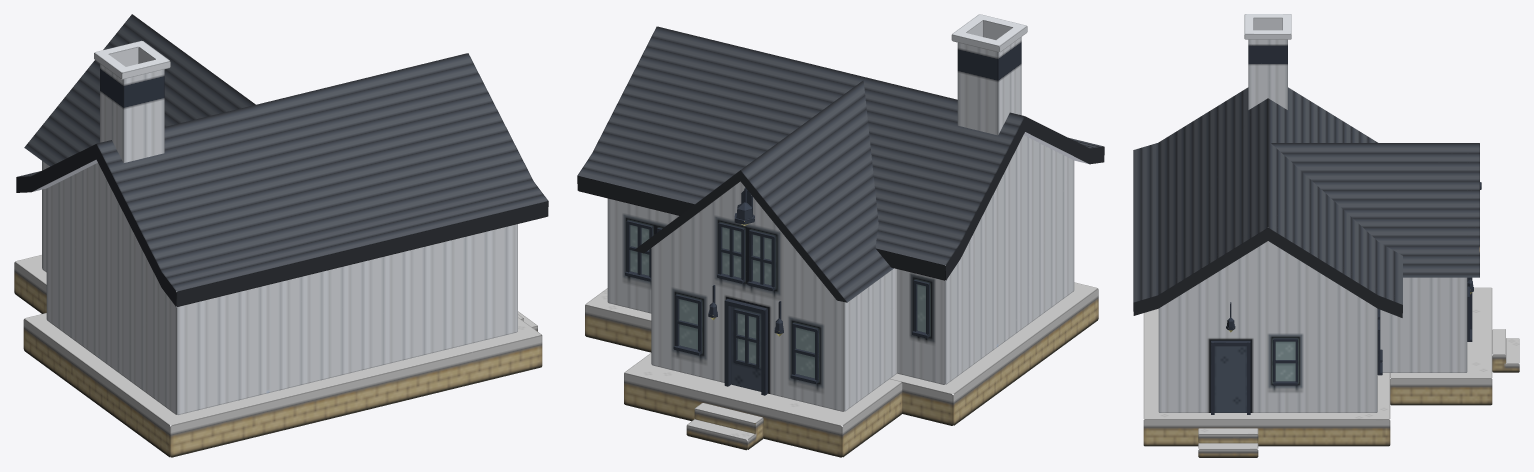
The model's file is Farmhouse.fbx.
3 renders of one model, left to right at view 1: azimuth 30°, elevation 25°; view 2: azimuth 150°, elevation 25°; view 3: azimuth 270°, elevation 25°, orthographic. The views are drawn at different scales.
Parts seen in each view (by area): view 1: base_1, base_porch_1, base, chimney, base_porch; view 2: base_1, base, base_porch_1, base_porch, chimney, stairs, doorframe, window_fronttop1, window_fronttop2, window_door, window_front2, window_frontleft (+2 smaller); view 3: base_1, base, base_porch_1, base_porch, chimney, stairs_1, stairs, doorframe_1, window_backsingle.
Part boxes in pixels (<box>): base_1: <box>16,53,548,414</box>; base_porch_1: <box>23,313,542,457</box>; base: <box>24,14,255,272</box>; chimney: <box>94,40,170,162</box>; base_porch: <box>14,255,46,313</box>; base_1: <box>577,26,1104,384</box>; base: <box>634,80,896,411</box>; base_porch_1: <box>585,282,1098,425</box>; base_porch: <box>624,353,902,457</box>; chimney: <box>951,14,1027,135</box>; stairs: <box>686,403,763,450</box>; doorframe: <box>724,299,767,395</box>; window_fronttop1: <box>717,222,745,283</box>; window_fronttop2: <box>747,230,775,290</box>; window_door: <box>733,308,760,368</box>; window_front2: <box>625,220,653,281</box>; window_frontleft: <box>673,294,701,355</box>; base_1: <box>1133,87,1402,412</box>; base: <box>1271,143,1479,372</box>; base_porch_1: <box>1143,308,1390,446</box>; base_porch: <box>1390,287,1492,405</box>; chimney: <box>1244,14,1291,109</box>; stairs_1: <box>1198,428,1258,457</box>; stairs: <box>1492,329,1519,372</box>; doorframe_1: <box>1211,340,1250,414</box>; window_backsingle: <box>1273,338,1297,385</box>.
Size of the model in its own units: 975 by 788 by 970.
4 materials, 4 textured.
